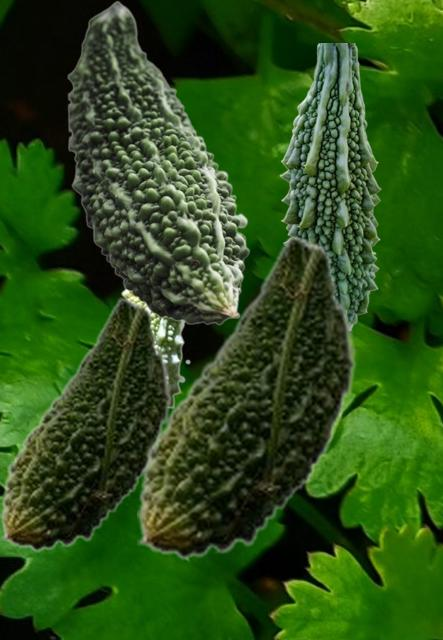ampalaya: (137, 235, 356, 559), (67, 0, 249, 324), (0, 297, 171, 551), (279, 43, 380, 324), (120, 288, 191, 408)
